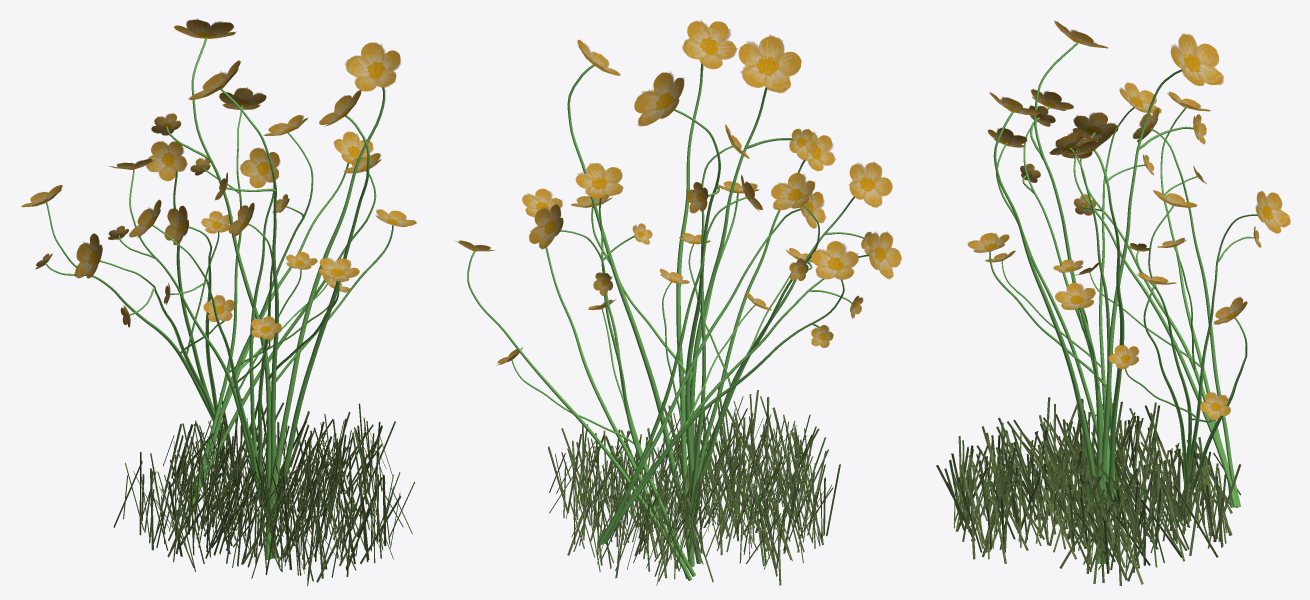
The model's file is bouton-or_grass_bigger.glb.
3 views of the same model, side by side, from view 1: azimuth 30°, elevation 25°; view 2: azimuth 150°, elevation 25°; view 3: azimuth 270°, elevation 25° (orthographic). The views are drawn at different scales.
Parts seen in each view (by area): view 1: Bouton dor_petal_1.001 (×4); view 2: Bouton dor_petal_1.001 (×4); view 3: Bouton dor_petal_1.001 (×4).
Boxes of the visible parts, box(x1,y1,x2,y2) form: Bouton dor_petal_1.001 (×4): box(21, 18, 416, 559); Bouton dor_petal_1.001 (×4): box(455, 20, 901, 580); Bouton dor_petal_1.001 (×4): box(967, 20, 1290, 563).
Size of the model in its own units: 1.57 by 2.09 by 1.3.
7 materials, 3 textured.
